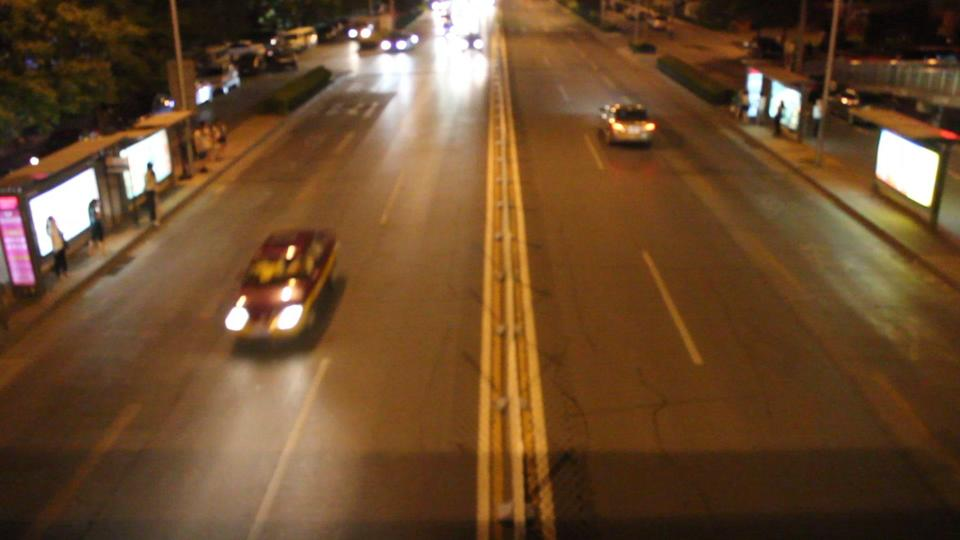car: (220, 226, 343, 352), (596, 101, 659, 148), (278, 26, 319, 51), (379, 30, 421, 54)
person: (43, 207, 70, 287), (86, 187, 104, 255), (142, 161, 158, 228)
